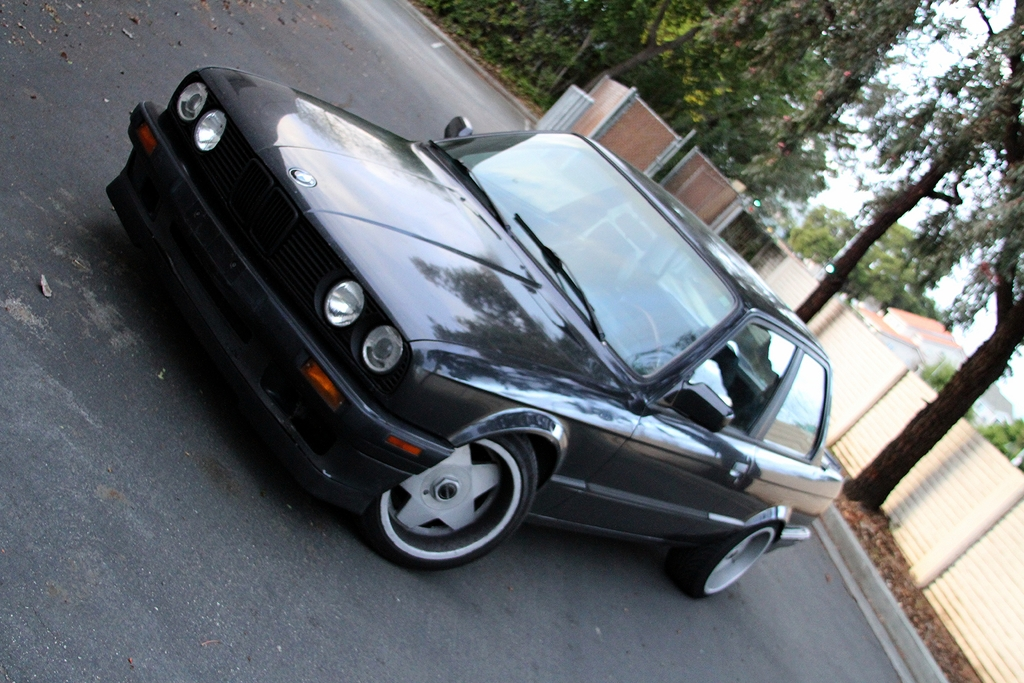cars: (112, 55, 872, 596)
